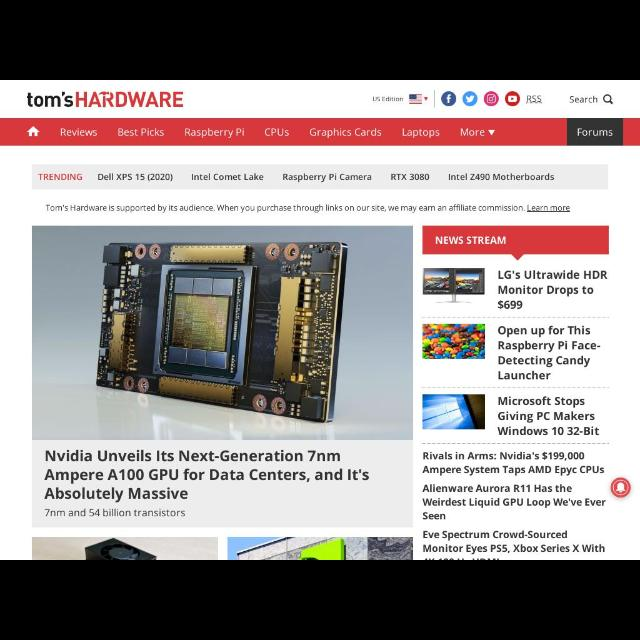button: (612, 477, 630, 495)
icon: (28, 127, 40, 137), (604, 93, 612, 105), (488, 130, 494, 136), (424, 96, 428, 102)
image: (29, 225, 411, 440), (231, 539, 411, 559), (32, 540, 216, 558), (28, 90, 184, 108), (442, 92, 456, 106), (463, 92, 477, 106), (484, 92, 498, 106), (506, 92, 520, 106), (410, 96, 422, 104)
spinner: (460, 129, 494, 139), (410, 95, 428, 105)
text: (44, 450, 368, 500), (424, 483, 606, 519), (498, 327, 600, 381), (420, 531, 606, 559), (499, 395, 601, 439), (497, 270, 607, 310), (46, 204, 572, 212), (423, 452, 602, 474), (44, 508, 188, 518), (450, 172, 556, 180), (434, 235, 508, 245), (310, 128, 382, 138), (283, 174, 373, 182), (98, 174, 172, 182), (186, 128, 244, 138), (192, 173, 264, 181), (402, 128, 440, 140), (119, 129, 165, 137), (39, 173, 83, 181), (391, 173, 429, 181), (60, 128, 96, 136), (461, 128, 484, 138), (570, 96, 598, 104), (264, 128, 290, 136), (372, 97, 402, 103), (526, 96, 542, 104)
textbutton: (568, 118, 622, 146)
toolbar: (1, 120, 639, 146)
